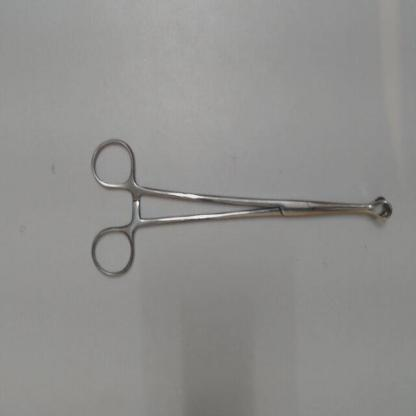8 Babcock Tissue Forceps: (85, 128, 399, 282)
